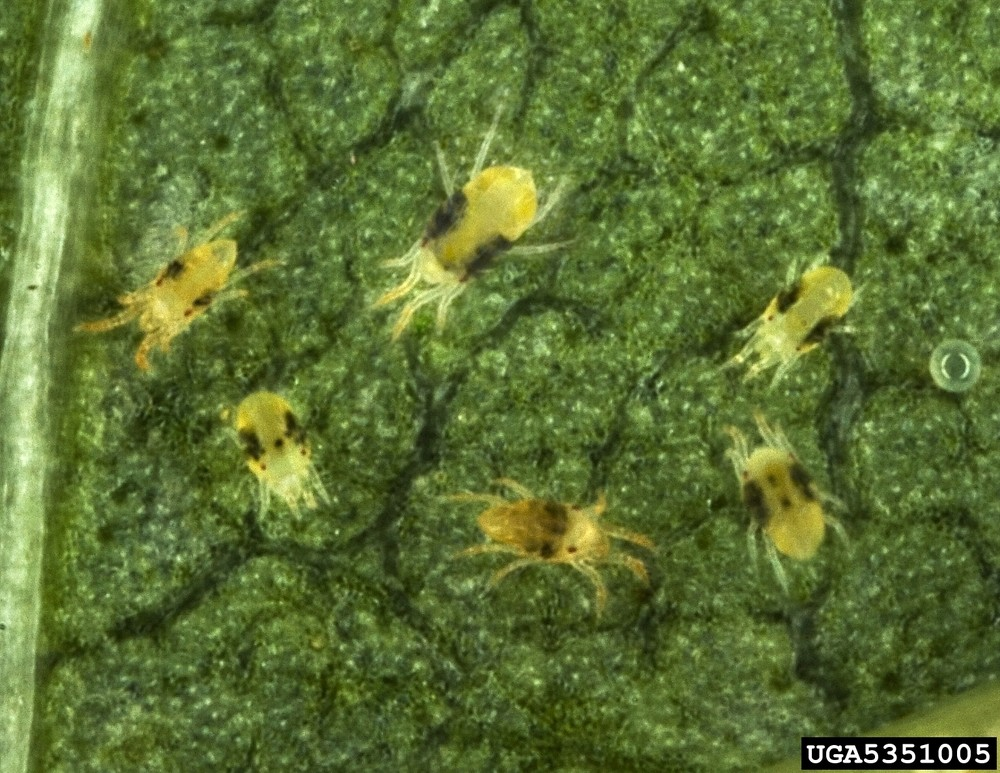Aracnido Rojo: (356, 99, 600, 347), (61, 205, 299, 368), (711, 408, 878, 620), (449, 468, 671, 627), (704, 239, 893, 399), (209, 378, 361, 524)
